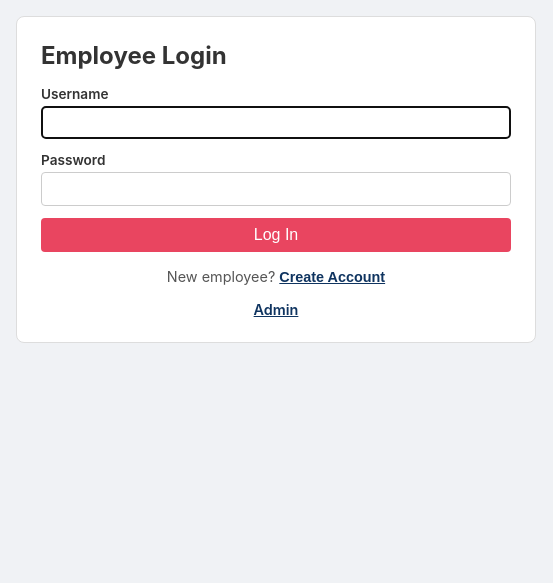
Test: Employee Portal (main page) › switches to registration form and back
Click the button "Create Account".
click(332, 277)  # box [279, 269, 385, 285]
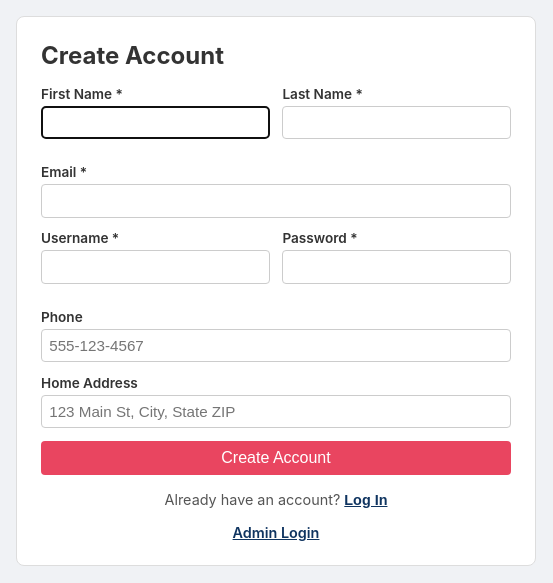
Check: the field labelled "Email *" is shown, box [41, 184, 511, 218]
Check: the heading "Create Account" is shown, box [41, 41, 224, 70]
Click the button "Log In".
click(366, 500)  # box [344, 492, 387, 508]
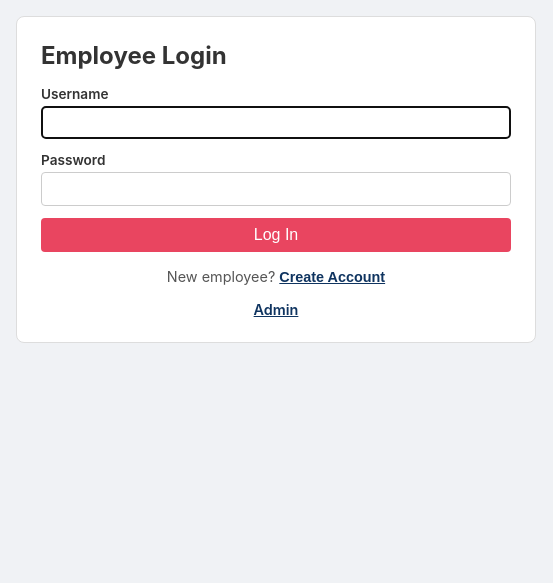
Check: the heading "Employee Login" is shown, box [41, 41, 227, 70]
